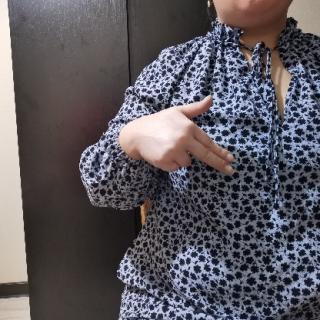GHAYN: (131, 92, 238, 180)
